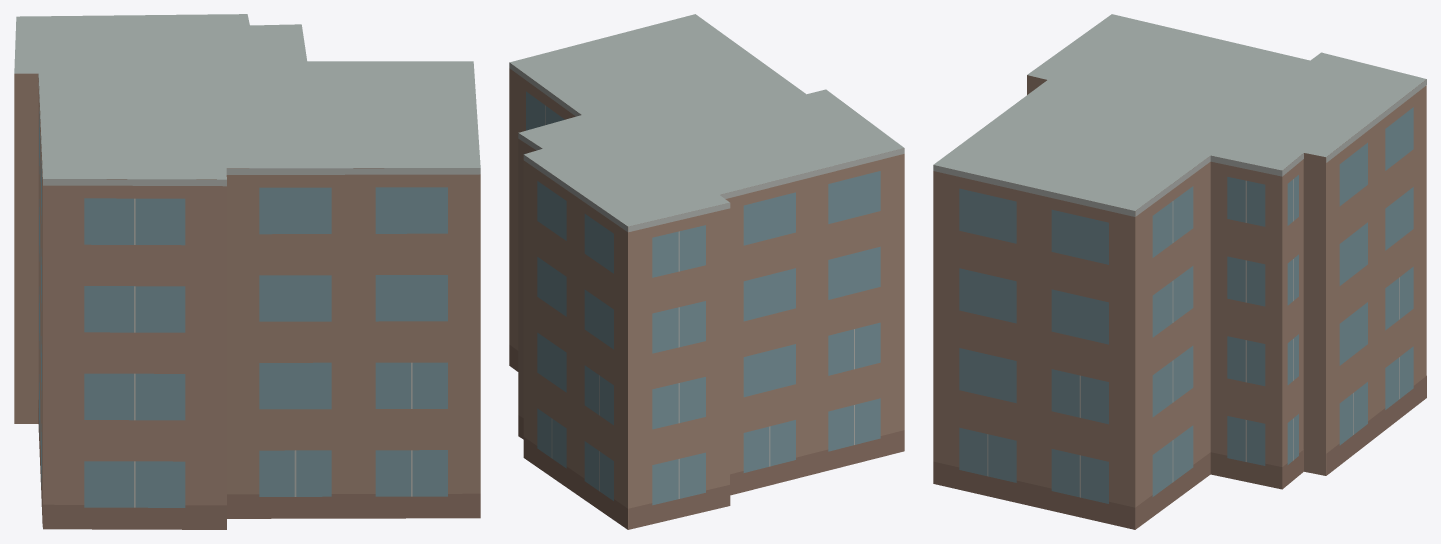
File: survey-upis-32908884.glb
3 views of the same model, side by side, from view 1: azimuth 30°, elevation 25°; view 2: azimuth 150°, elevation 25°; view 3: azimuth 270°, elevation 25° (orthographic). The views are drawn at different scales.
Visible parts, largest first — view 1: survey-upis-32908884.tmp; view 2: survey-upis-32908884.tmp; view 3: survey-upis-32908884.tmp.
Boxes of the visible parts, left/top/right/bottom form: survey-upis-32908884.tmp: left=14, top=14, right=480, bottom=529; survey-upis-32908884.tmp: left=509, top=14, right=904, bottom=529; survey-upis-32908884.tmp: left=933, top=14, right=1426, bottom=529.
Bounding box in the file's own units: 16.97 × 12.8 × 17.96.
